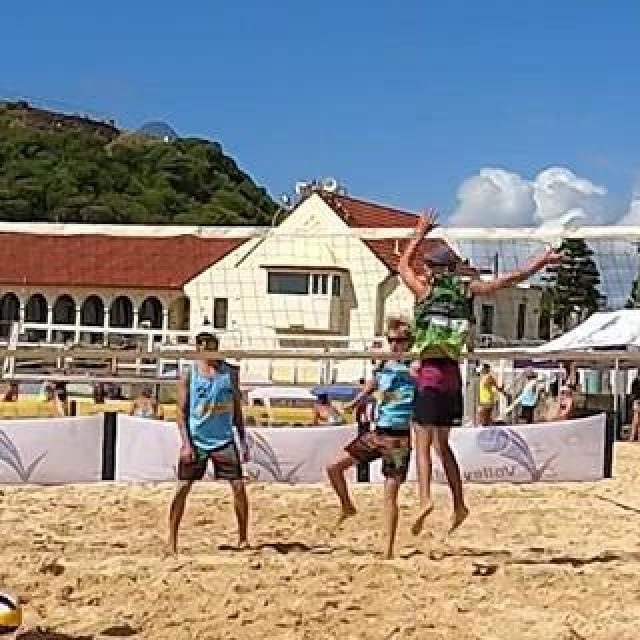volleyball: (0, 590, 20, 638)
